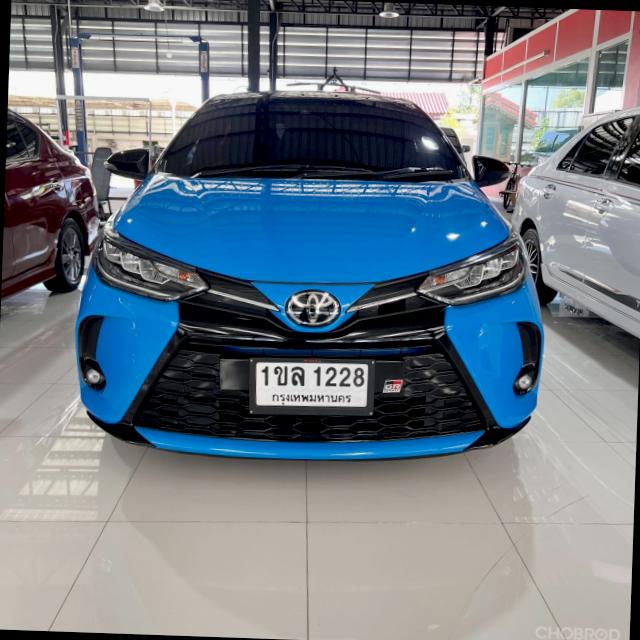license_plate: (234, 341, 380, 426)
